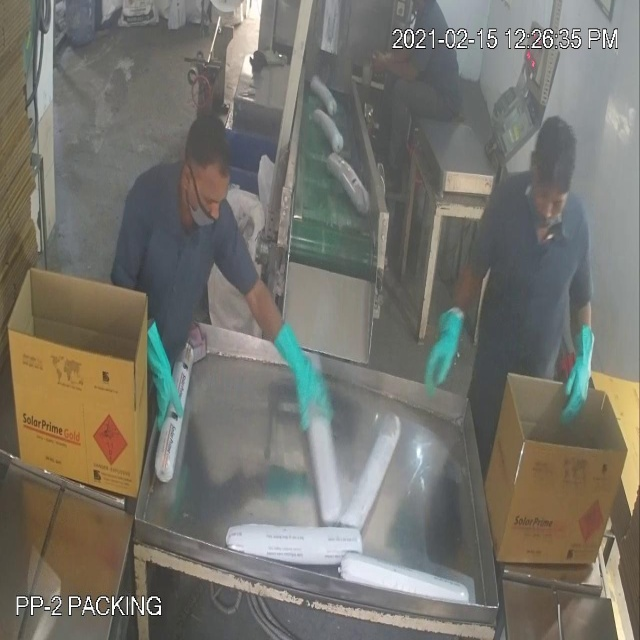Guantes: (253, 307, 342, 442), (133, 311, 189, 444), (414, 306, 475, 418), (555, 304, 602, 436)
Sin_guantes: (366, 53, 426, 92)
